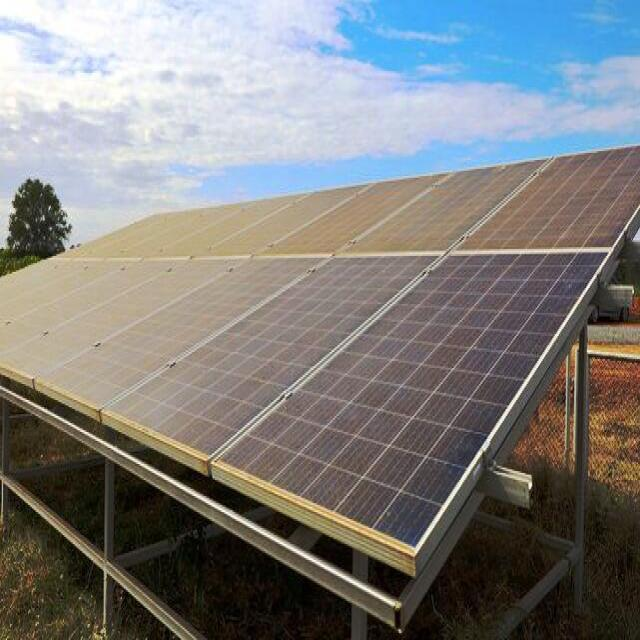faulty: (2, 144, 640, 564)
